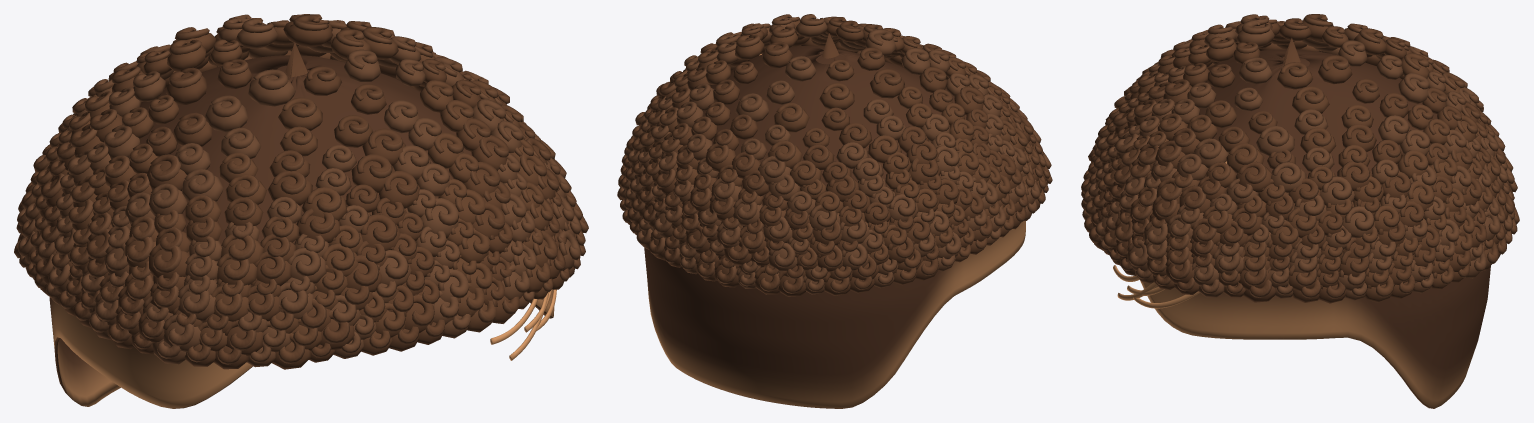
The model's file is corte-feminino-11.glb.
3 views of the same model, side by side, from view 1: azimuth 30°, elevation 25°; view 2: azimuth 150°, elevation 25°; view 3: azimuth 270°, elevation 25° (orthographic). The views are drawn at different scales.
Parts seen in each view (by area): view 1: RCL_Corte_Feminino_11; view 2: RCL_Corte_Feminino_11; view 3: RCL_Corte_Feminino_11.
Boxes of the visible parts, <box> form: RCL_Corte_Feminino_11: <box>14,14,588,408</box>; RCL_Corte_Feminino_11: <box>617,14,1052,408</box>; RCL_Corte_Feminino_11: <box>1081,14,1519,408</box>.
Size of the model in its own units: 0.2076 by 0.1674 by 0.204.
